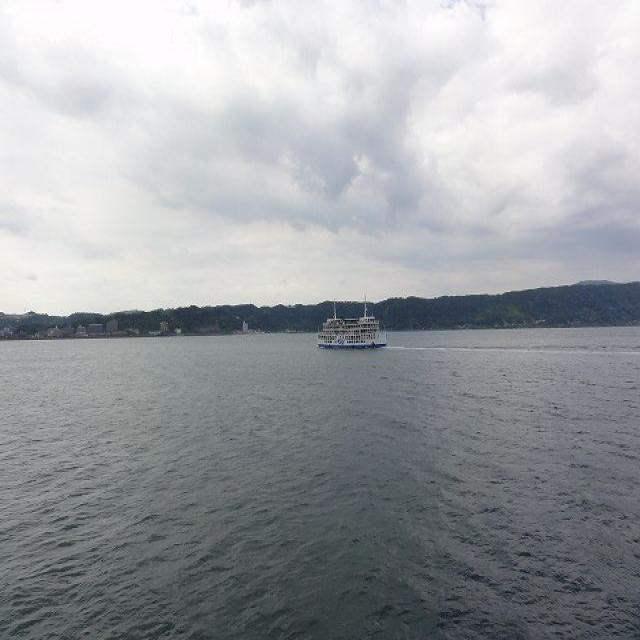passenger ship: (319, 308, 394, 361)
